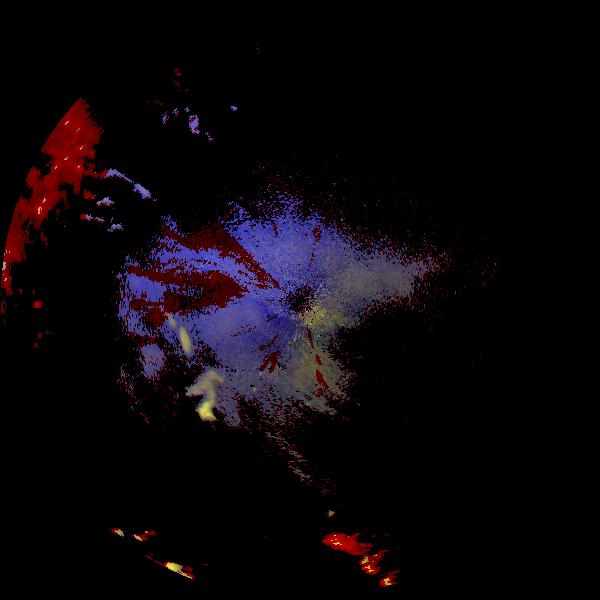roost: (124, 314, 214, 404)
